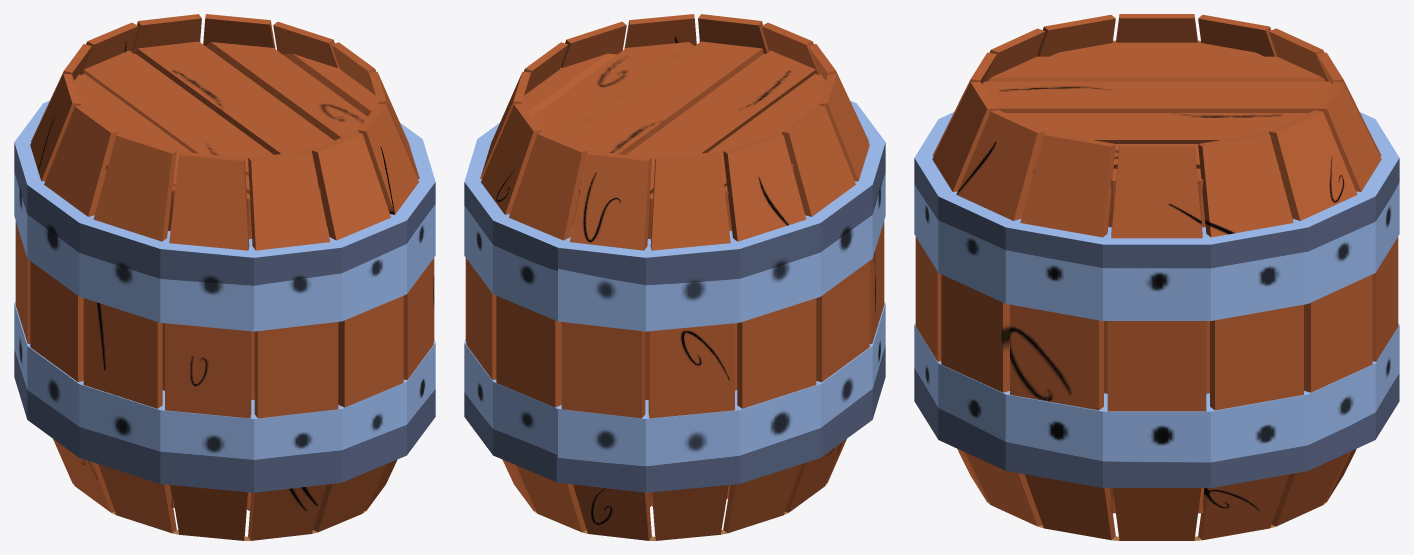
Rendered from barril.fbx.
The picture shows the model from 3 angles, left to right: view 1: azimuth 30°, elevation 25°; view 2: azimuth 150°, elevation 25°; view 3: azimuth 270°, elevation 25°; orthographic projection. The views are drawn at different scales.
Parts seen in each view (by area): view 1: Barril; view 2: Barril; view 3: Barril.
Boxes of the visible parts, x1,y1,x2,y2 form: Barril: [14, 14, 435, 540]; Barril: [464, 14, 885, 540]; Barril: [914, 14, 1399, 540].
Size of the model in its own units: 232 by 245 by 274.
Materials: 1 (1 with a texture image).
